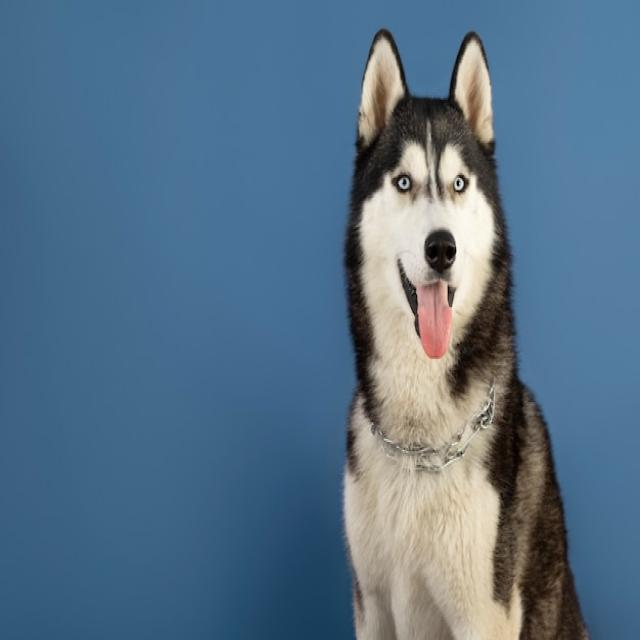Dog: (343, 24, 585, 640)
